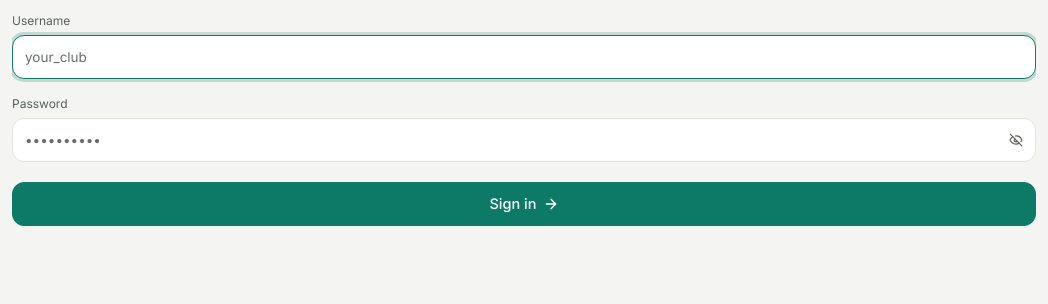
Scenario: signing in › tells a club whose application is not approved yet that it is under review
Type "applicant@example.com" into the field labelled "Username" at (524,57), box [12, 35, 1036, 79]
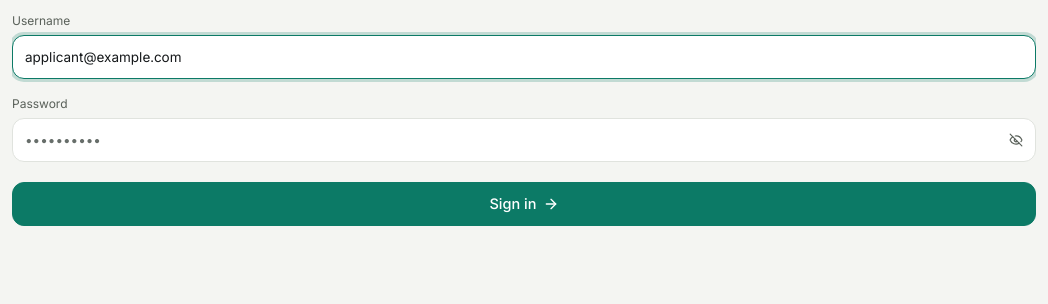
Type "right" into the password field labelled "Password" at (524,140), box [12, 118, 1036, 162]
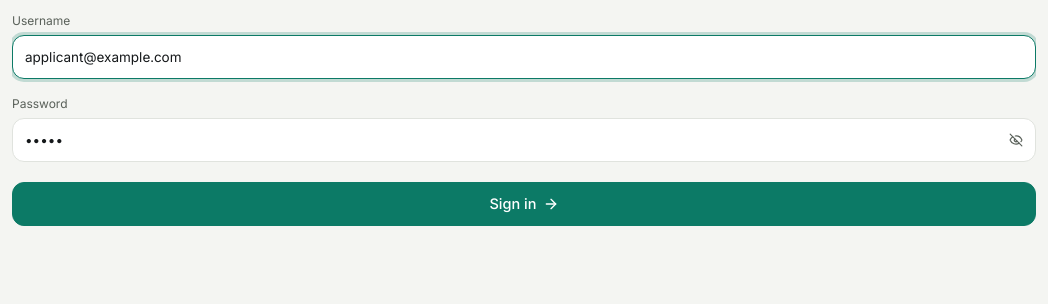
Click the button "Sign in" at (524,204), box [12, 182, 1036, 226]
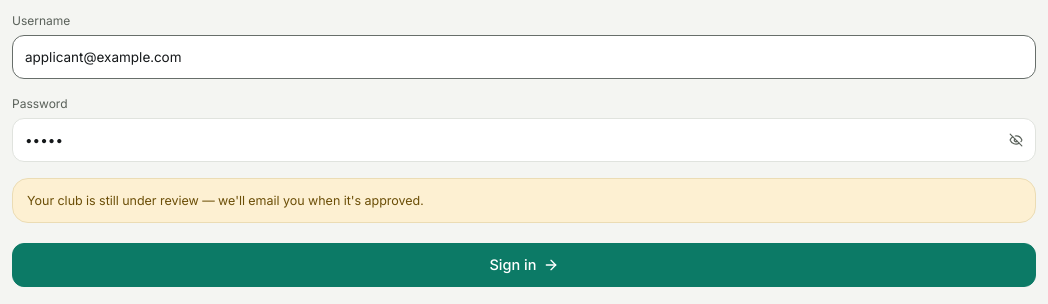
Now the message reads "Your club is still under review — we'll email you when it's approved.", box [27, 193, 424, 208]
